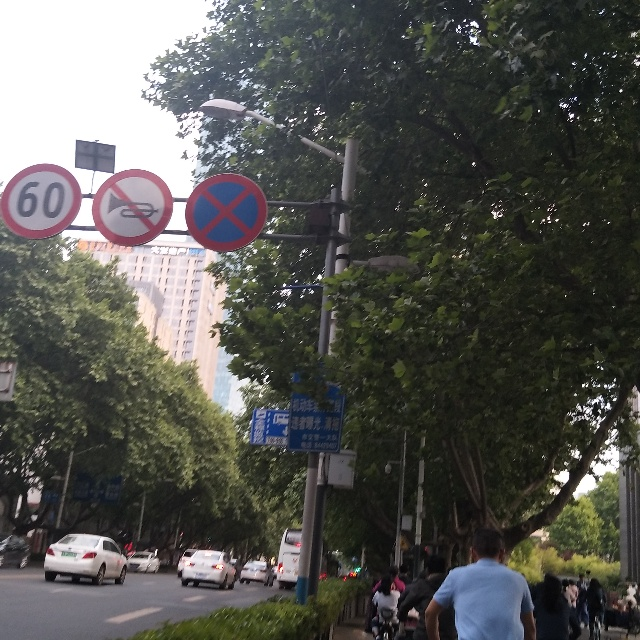nohonk: (95, 176, 166, 239)
stop: (188, 172, 269, 248)
